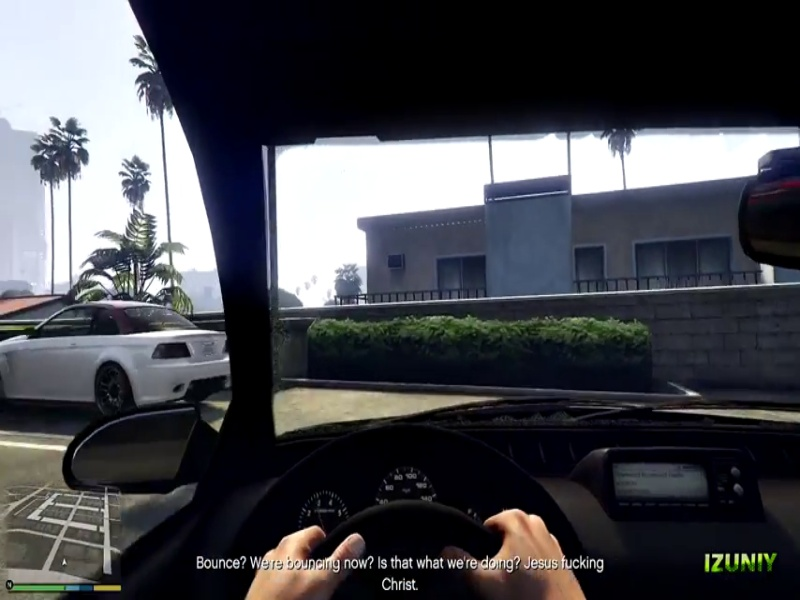licenseplate: (589, 226, 597, 438)
